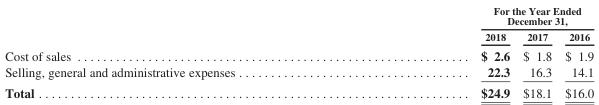table: (4, 4, 593, 99)
table column: (4, 4, 357, 99), (357, 4, 515, 99), (515, 4, 557, 99), (557, 4, 593, 99)
table column header: (4, 4, 593, 45)
table row: (4, 4, 593, 28), (4, 45, 593, 63), (4, 63, 593, 81), (4, 81, 593, 99), (4, 28, 593, 45)
table spanning cell: (357, 4, 593, 28)
